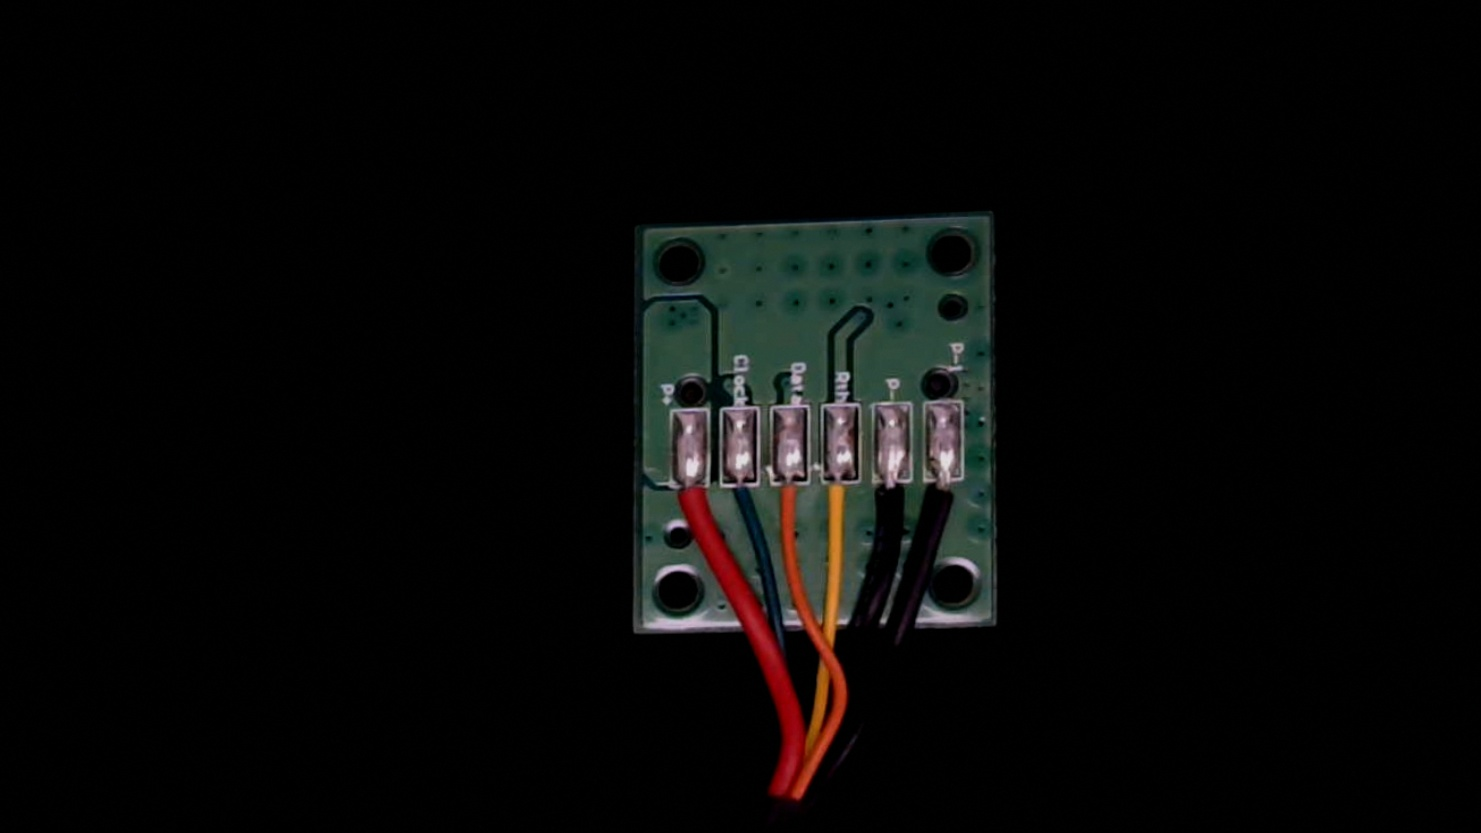Black: (874, 462, 911, 546)
Black1: (924, 461, 967, 546)
Green: (718, 463, 763, 533)
Orange: (771, 463, 812, 546)
Red: (670, 464, 711, 551)
Yellow: (820, 462, 865, 556)
